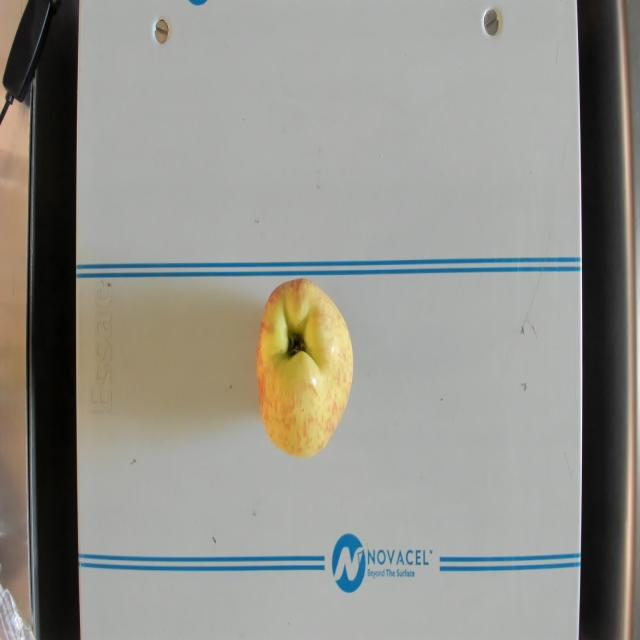apple: (254, 275, 354, 461)
